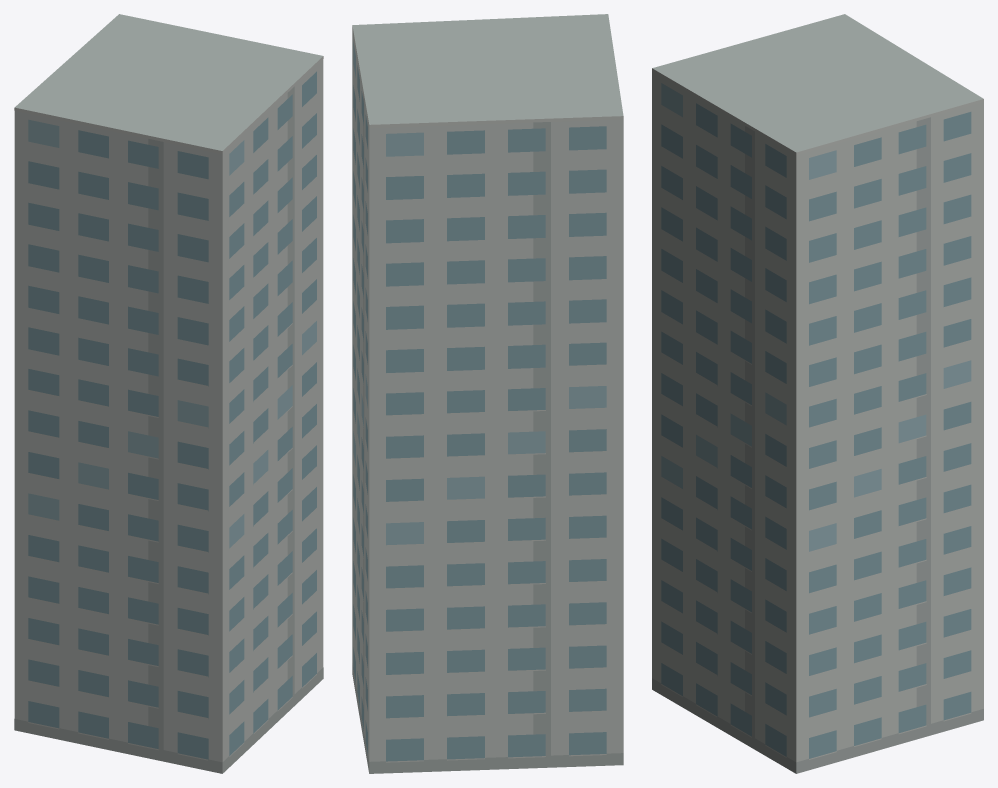
File: residential-ae886f44-0194-4bcf-876c-728f881d70ec.glb
3 views of the same model, side by side, from view 1: azimuth 30°, elevation 25°; view 2: azimuth 150°, elevation 25°; view 3: azimuth 270°, elevation 25° (orthographic). The views are drawn at different scales.
Visible parts, largest first — view 1: residential-ae886f44-0194-4bcf-876c-728f881d70ec.tmp; view 2: residential-ae886f44-0194-4bcf-876c-728f881d70ec.tmp; view 3: residential-ae886f44-0194-4bcf-876c-728f881d70ec.tmp.
Boxes of the visible parts, x1,y1,x2,y2 form: residential-ae886f44-0194-4bcf-876c-728f881d70ec.tmp: [14, 14, 323, 773]; residential-ae886f44-0194-4bcf-876c-728f881d70ec.tmp: [352, 14, 623, 773]; residential-ae886f44-0194-4bcf-876c-728f881d70ec.tmp: [652, 14, 983, 773].
Bounding box in the file's own units: 22.96 × 48 × 23.24.
